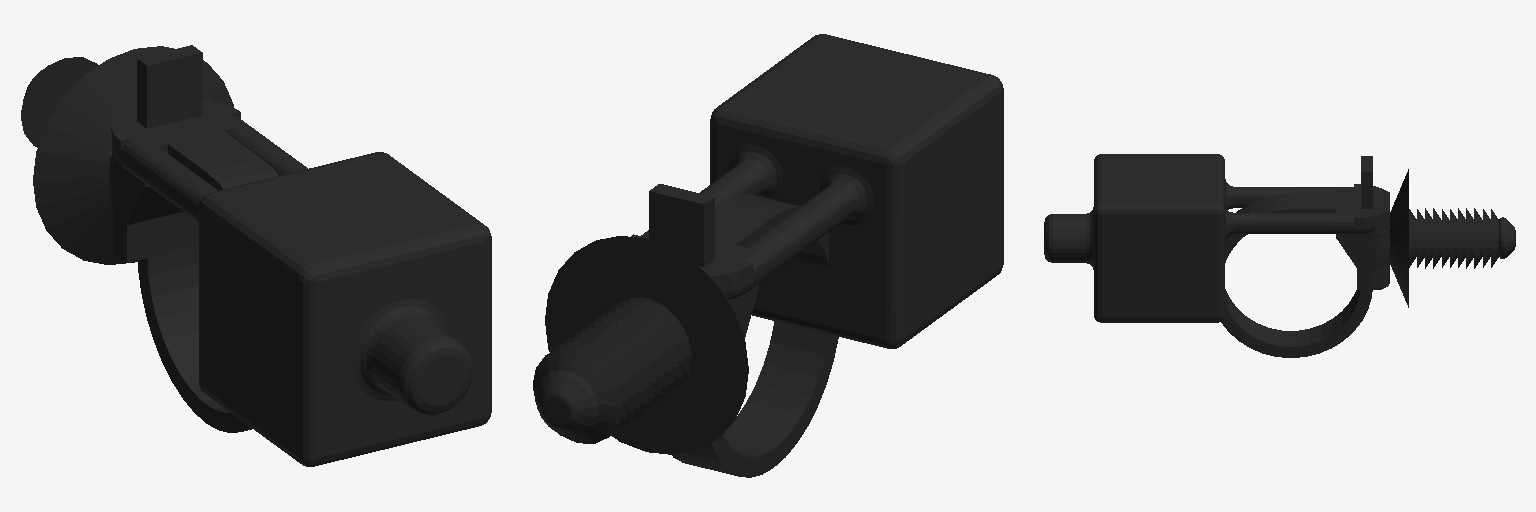
robot.urdf — Clip1_modified:
<?xml version="1.0" encoding="utf-8"?>
<!-- This URDF was automatically created by SolidWorks to URDF Exporter! Originally created by [author] ([email redacted]) 
     Commit Version: 1.5.1-0-g916b5db  Build Version: 1.5.7152.31018
     For more information, please see http://wiki.ros.org/sw_urdf_exporter -->
<robot
  name="Clip1_modified">
  <link
    name="Clips_1_modified.SLDPRT">
    <inertial>
      <origin
        xyz="-2.3128E-09 -0.021332 -0.000140489999999999"
        rpy="0 0 0" />
      <mass
        value="0.0058626" />
      <inertia
        ixx="1.1179E-06"
        ixy="2.5956E-13"
        ixz="4.857E-14"
        iyy="2.2034E-07"
        iyz="-3.47749999999995E-09"
        izz="1.0881E-06" />
    </inertial>
    <visual>
      <origin
        xyz="0 0 0"
        rpy="1.5707963267949 0 0" />
      <geometry>
        <mesh
          filename="package://Clip1_modified/meshes/Clips_1_modified.SLDPRT.STL" />
      </geometry>
      <material
        name="">
        <color
          rgba="0.2 0.2 0.2 1" />
        <texture
          filename="package://Clip1_modified/textures/" />
      </material>
    </visual>
    <collision>
      <origin
        xyz="0 0 0"
        rpy="1.5707963267949 0 0" />
      <geometry>
        <mesh
          filename="package://Clip1_modified/meshes/Clips_1_modified.SLDPRT.STL" />
      </geometry>
    </collision>
  </link>
</robot>

--- What the picture shows (computed from the rendered views, not written in the file) ---
Views: 3 orthographic renders of the robot side by side, from view 1: azimuth 30°, elevation 25°; view 2: azimuth 150°, elevation 25°; view 3: azimuth 270°, elevation 25°.
Robot: Clip1_modified — 1 links, 0 joints (none); root link Clips_1_modified.SLDPRT; default pose: all joints at 0.
Links seen in each view (by area): view 1: Clips_1_modified.SLDPRT; view 2: Clips_1_modified.SLDPRT; view 3: Clips_1_modified.SLDPRT.
Boxes of the visible links, x1,y1,x2,y2 form: Clips_1_modified.SLDPRT: (21, 45, 491, 466); Clips_1_modified.SLDPRT: (533, 34, 1003, 477); Clips_1_modified.SLDPRT: (1044, 154, 1515, 357).
Bounding box of the posed robot: 0.017 × 0.0573 × 0.025 m (x, y, z).
Meshes: 1 distinct files referenced, 1 mesh visuals loaded (1 binary STL).